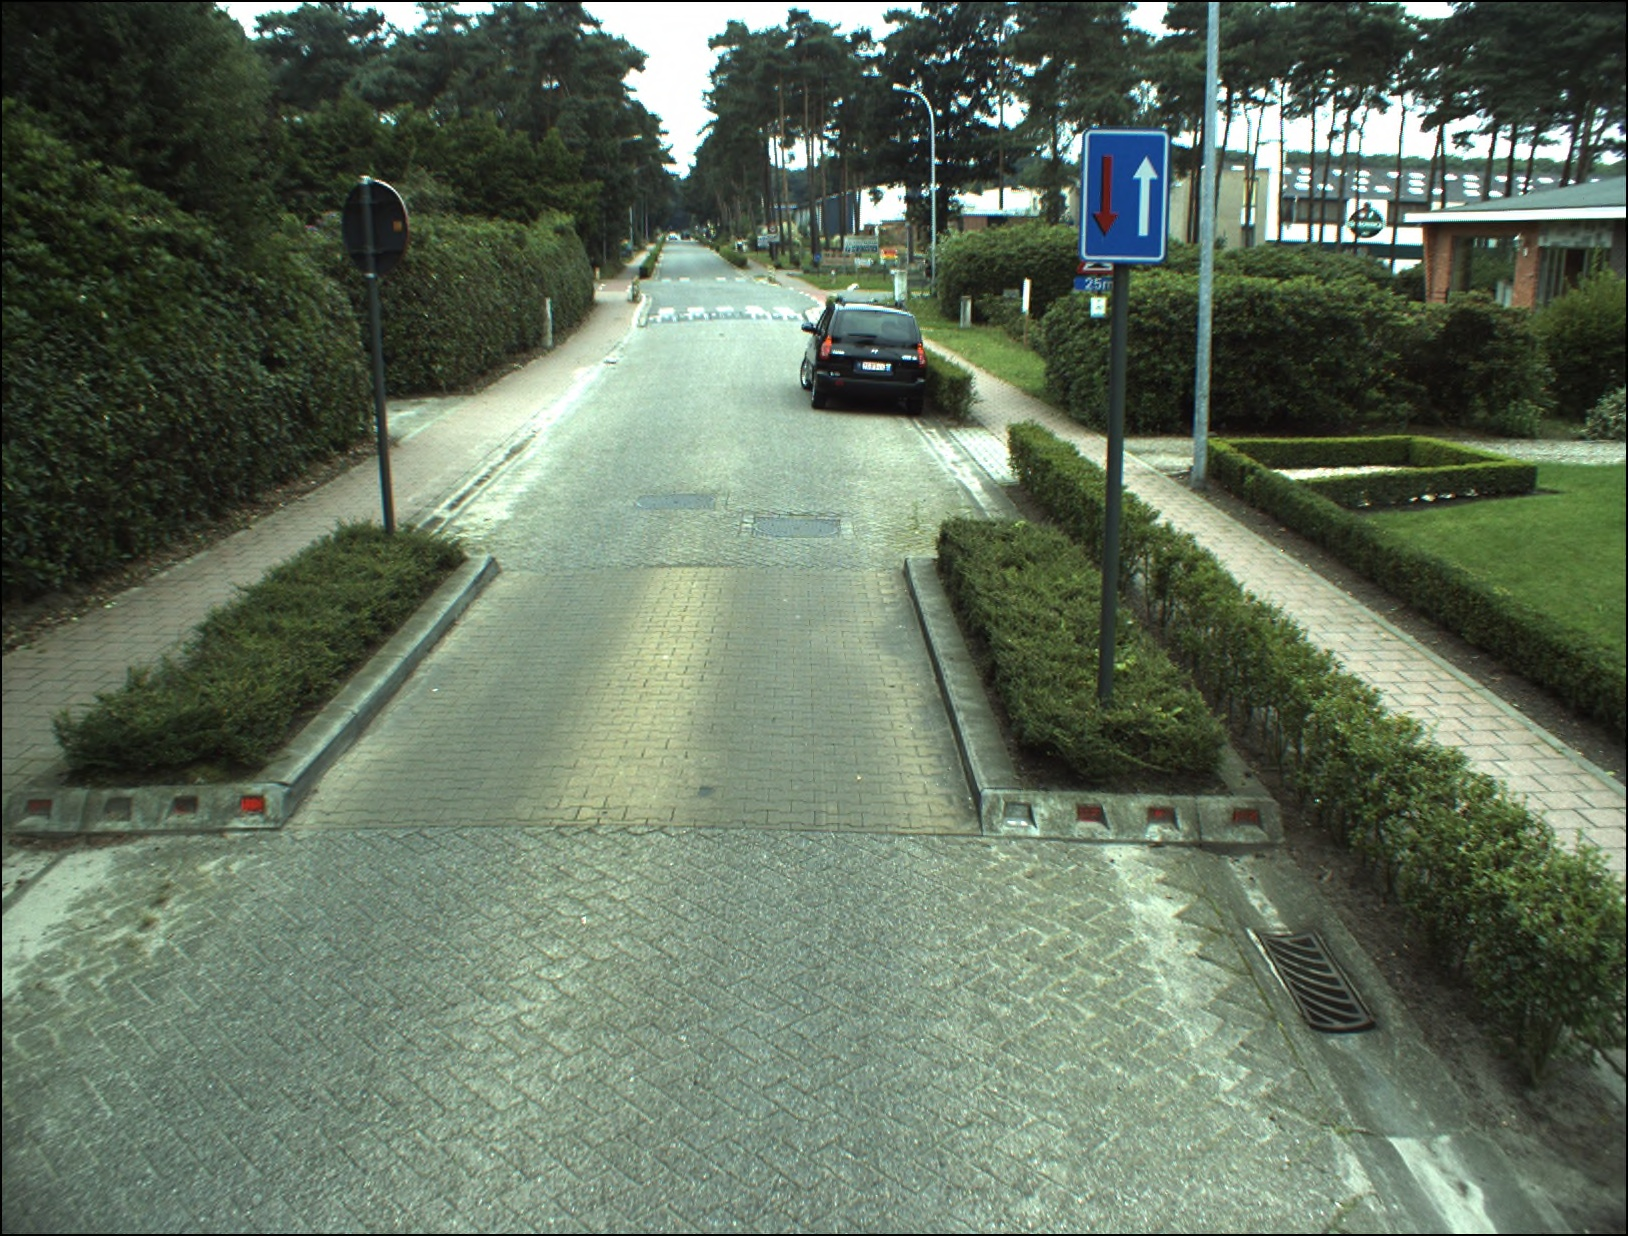roadnarrow1: (1081, 129, 1165, 260)
